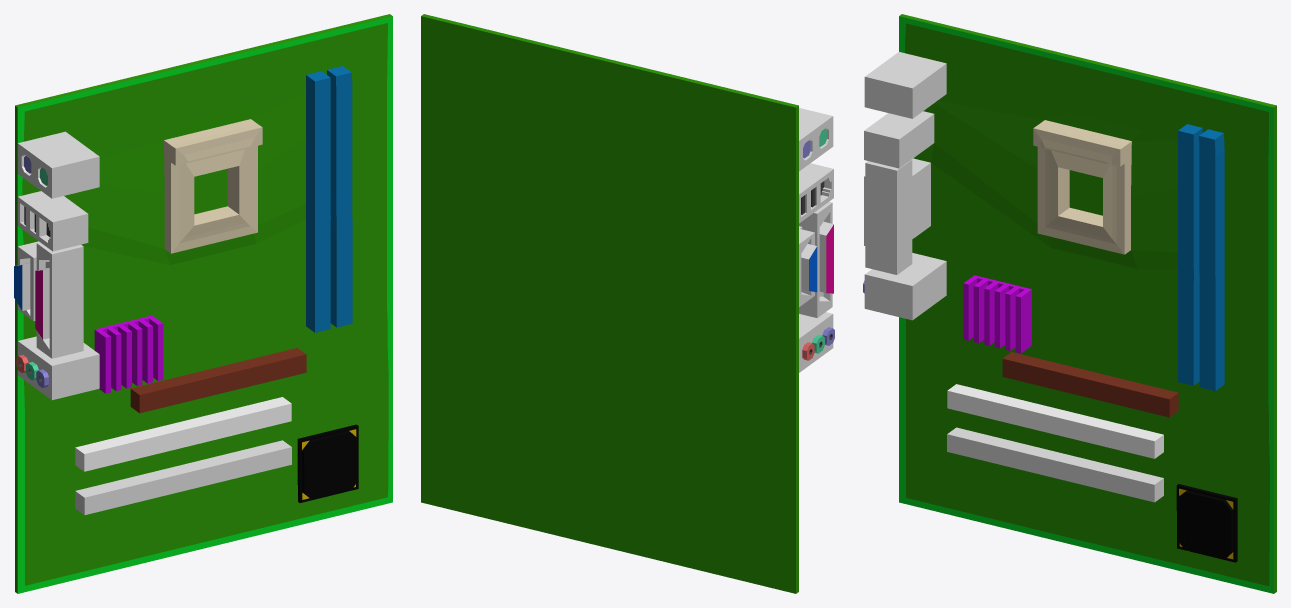
The model's file is mobo_socket-423_1-intel.fbx.
3 views of the same model, side by side, from view 1: azimuth 30°, elevation 25°; view 2: azimuth 150°, elevation 25°; view 3: azimuth 330°, elevation 25° (orthographic).
Visible parts, largest first — view 1: Plane, Plane.001; view 2: Plane; view 3: Plane, Plane.001.
Part boxes in pixels (<box>): Plane: <box>14,14,392,593</box>; Plane.001: <box>94,315,163,393</box>; Plane: <box>421,14,834,593</box>; Plane: <box>863,14,1276,593</box>; Plane.001: <box>963,275,1031,353</box>.
Size of the model in its own units: 160 by 195 by 27.57.
